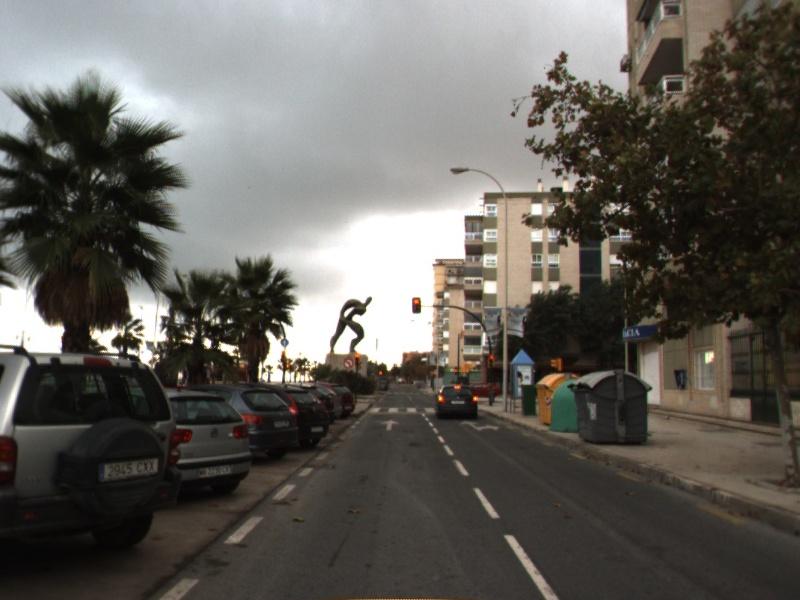STRAIGHT: (379, 418, 400, 432)
STRAIGHT_RIGHT: (458, 418, 502, 433)
